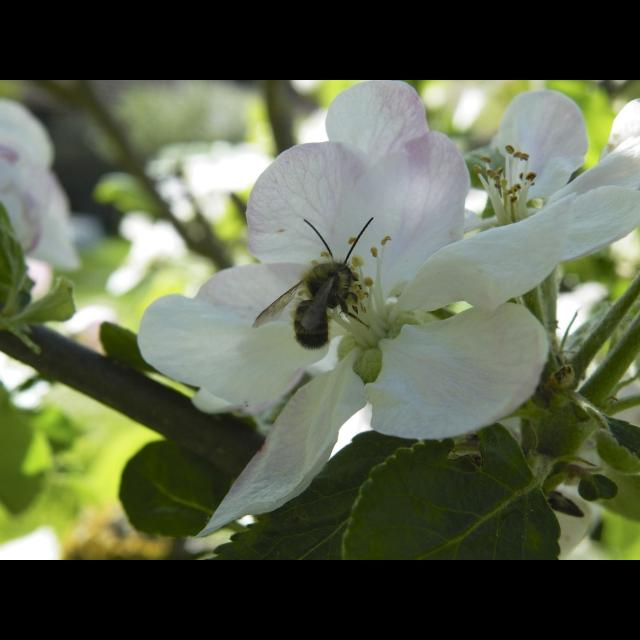Flower: (132, 80, 592, 522)
